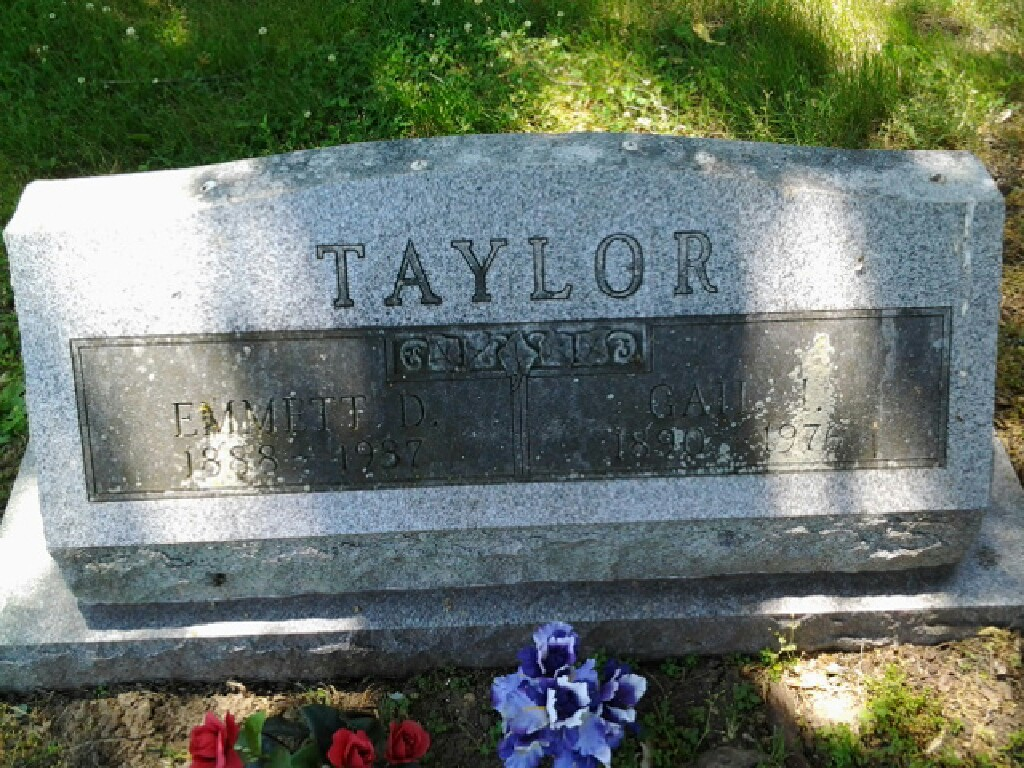slant: (0, 134, 1024, 698)
